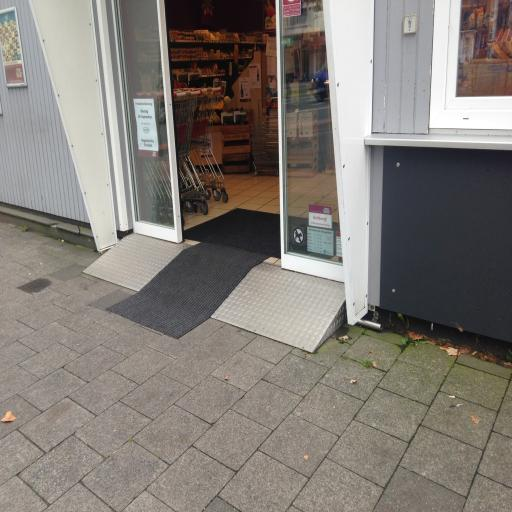ramp: (124, 234, 343, 356)
